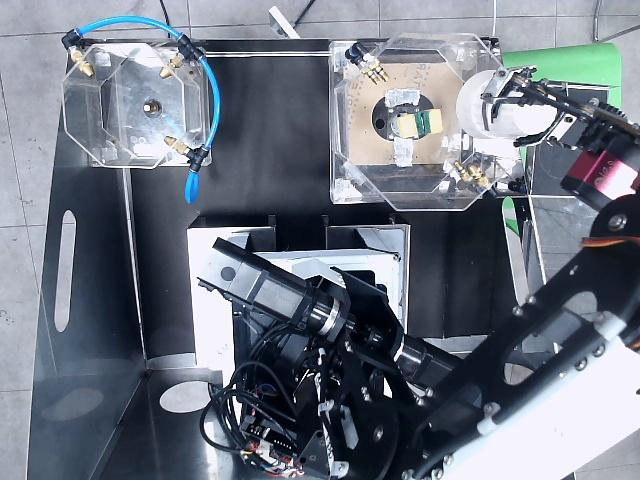cup: (456, 67, 556, 141)
